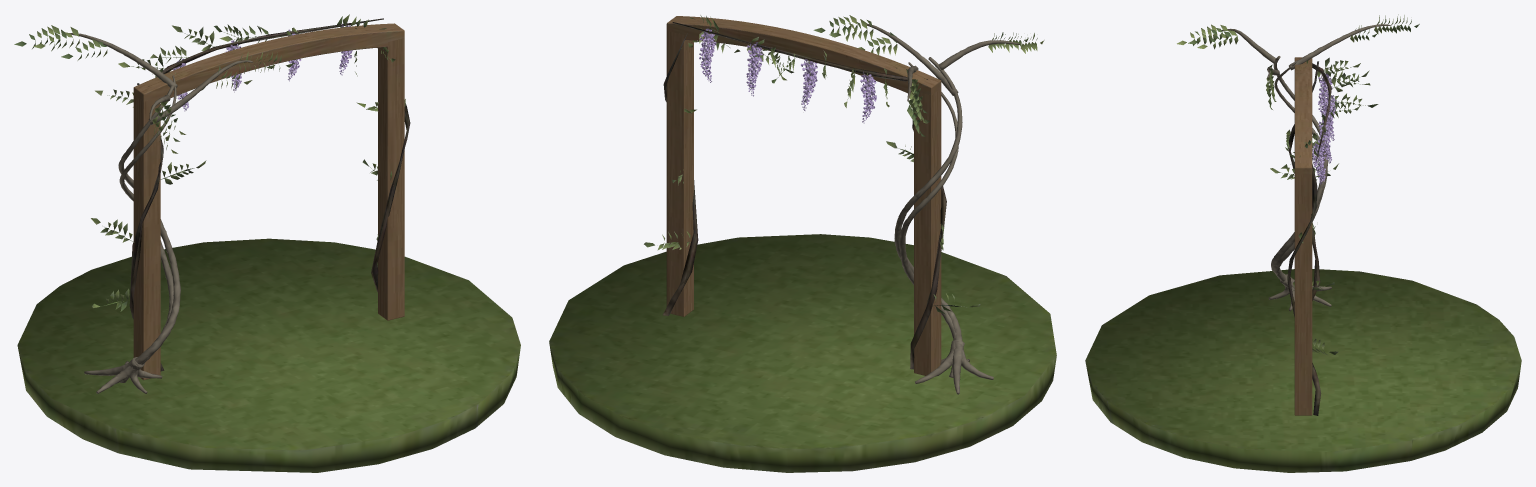
Rendered from pergola.glb.
3 views of the same model, side by side, from view 1: azimuth 30°, elevation 25°; view 2: azimuth 150°, elevation 25°; view 3: azimuth 270°, elevation 25° (orthographic). The views are drawn at different scales.
Visible parts, largest first — view 1: Garden_Base_Surface.003, Wrapped_Trellis_EndArch_Clean_Posts.001, Wrapped_Trellis_EndArch_Clean_CrossWood.001, VineTree_Young_Trunk.001, Trellis_EndArch_VineWrapped_Vine.001, Trellis_EndArch_VineWrapped_Foliage.001, VineTree_Young_Leaves.001, Trellis_EndArch_VineWrapped_BloomRaceme_Short_Purple_Full_Pe; view 2: Garden_Base_Surface.003, Wrapped_Trellis_EndArch_Clean_Posts.001, Wrapped_Trellis_EndArch_Clean_CrossWood.001, VineTree_Young_Trunk.001, Trellis_EndArch_VineWrapped_Vine.001, Trellis_EndArch_VineWrapped_BloomRaceme_Short_Purple_Full_Pe, Trellis_EndArch_VineWrapped_Foliage.001, VineTree_Young_Leaves.001; view 3: Garden_Base_Surface.003, Wrapped_Trellis_EndArch_Clean_Posts.001, VineTree_Young_Trunk.001, Wrapped_Trellis_EndArch_Clean_CrossWood.001, Trellis_EndArch_VineWrapped_Vine.001, Trellis_EndArch_VineWrapped_Foliage.001, Trellis_EndArch_VineWrapped_BloomRaceme_Short_Purple_Full_Pe, VineTree_Young_Leaves.001.
Boxes of the visible parts, x1,y1,x2,y2 form: Garden_Base_Surface.003: (17, 238, 520, 472); Wrapped_Trellis_EndArch_Clean_Posts.001: (133, 38, 404, 380); Wrapped_Trellis_EndArch_Clean_CrossWood.001: (133, 23, 404, 108); VineTree_Young_Trunk.001: (70, 33, 253, 393); Trellis_EndArch_VineWrapped_Vine.001: (129, 18, 410, 371); Trellis_EndArch_VineWrapped_Foliage.001: (91, 14, 405, 311); VineTree_Young_Leaves.001: (14, 25, 294, 153); Trellis_EndArch_VineWrapped_BloomRaceme_Short_Purple_Full_Pe: (172, 23, 352, 111); Garden_Base_Surface.003: (549, 234, 1056, 472); Wrapped_Trellis_EndArch_Clean_Posts.001: (666, 31, 941, 375); Wrapped_Trellis_EndArch_Clean_CrossWood.001: (666, 16, 941, 102); VineTree_Young_Trunk.001: (867, 23, 1020, 394); Trellis_EndArch_VineWrapped_Vine.001: (663, 22, 946, 369); Trellis_EndArch_VineWrapped_BloomRaceme_Short_Purple_Full_Pe: (699, 28, 876, 123); Trellis_EndArch_VineWrapped_Foliage.001: (644, 15, 980, 314); VineTree_Young_Leaves.001: (813, 15, 1044, 136); Garden_Base_Surface.003: (1085, 269, 1521, 472); Wrapped_Trellis_EndArch_Clean_Posts.001: (1294, 174, 1312, 415); VineTree_Young_Trunk.001: (1221, 24, 1390, 311); Wrapped_Trellis_EndArch_Clean_CrossWood.001: (1294, 57, 1312, 174); Trellis_EndArch_VineWrapped_Vine.001: (1287, 61, 1331, 415); Trellis_EndArch_VineWrapped_Foliage.001: (1270, 57, 1378, 355); Trellis_EndArch_VineWrapped_BloomRaceme_Short_Purple_Full_Pe: (1312, 73, 1336, 184); VineTree_Young_Leaves.001: (1177, 14, 1419, 109).
Size of the model in its own units: 3.98 by 3.06 by 4.
Materials: 9 (5 with a texture image).
